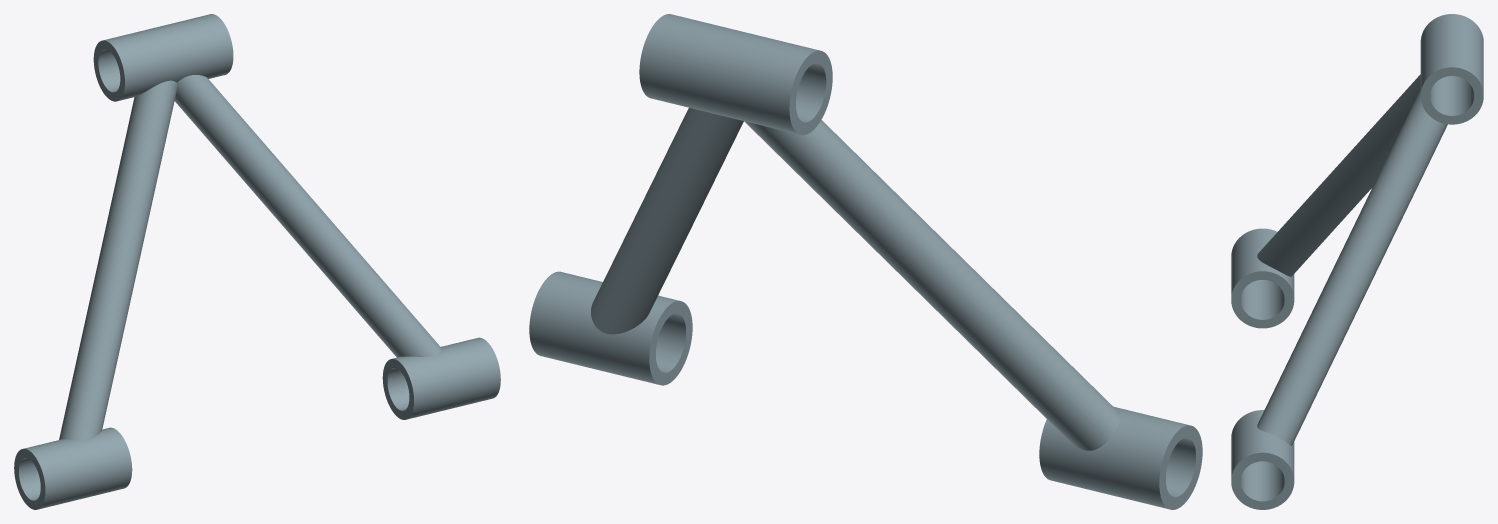
The model's file is upper_wishbone_C02_R02.glb.
The picture shows the model from 3 angles, left to right: view 1: azimuth 30°, elevation 25°; view 2: azimuth 150°, elevation 25°; view 3: azimuth 270°, elevation 25°; orthographic projection. The views are drawn at different scales.
Visible parts, largest first — view 1: upper_wishbone_C02_R02; view 2: upper_wishbone_C02_R02; view 3: upper_wishbone_C02_R02.
Part boxes in pixels (x1=…): upper_wishbone_C02_R02: x1=14, y1=14, x2=500, y2=509; upper_wishbone_C02_R02: x1=529, y1=14, x2=1202, y2=509; upper_wishbone_C02_R02: x1=1231, y1=14, x2=1483, y2=509.
Size of the model in its own units: 0.42 by 0.312 by 0.2.
